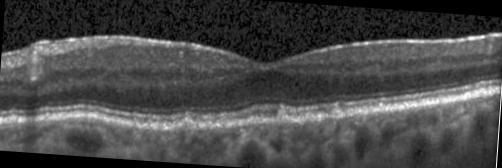retinal_drusen: (277, 108, 291, 125), (249, 118, 266, 127), (181, 121, 194, 130), (321, 117, 335, 125), (304, 118, 315, 126), (230, 123, 241, 130), (291, 122, 301, 129), (172, 122, 180, 130), (131, 122, 140, 129), (146, 122, 155, 129), (212, 126, 222, 131), (157, 124, 164, 131), (203, 125, 210, 132), (195, 122, 201, 130)
